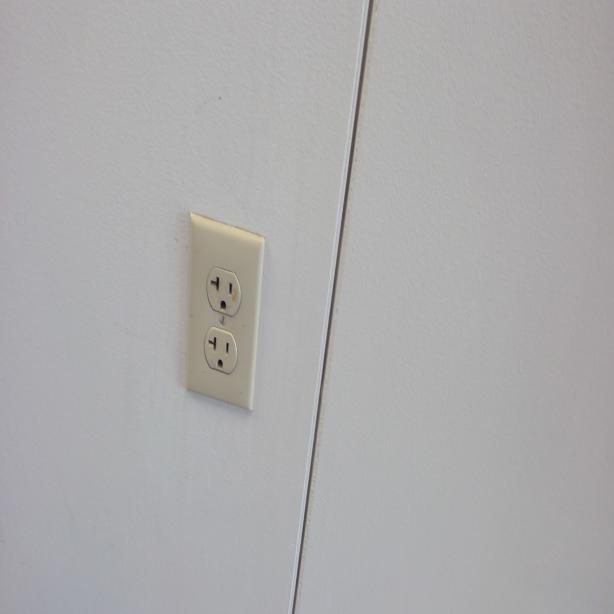typeb: (205, 264, 242, 317), (203, 328, 239, 376)
